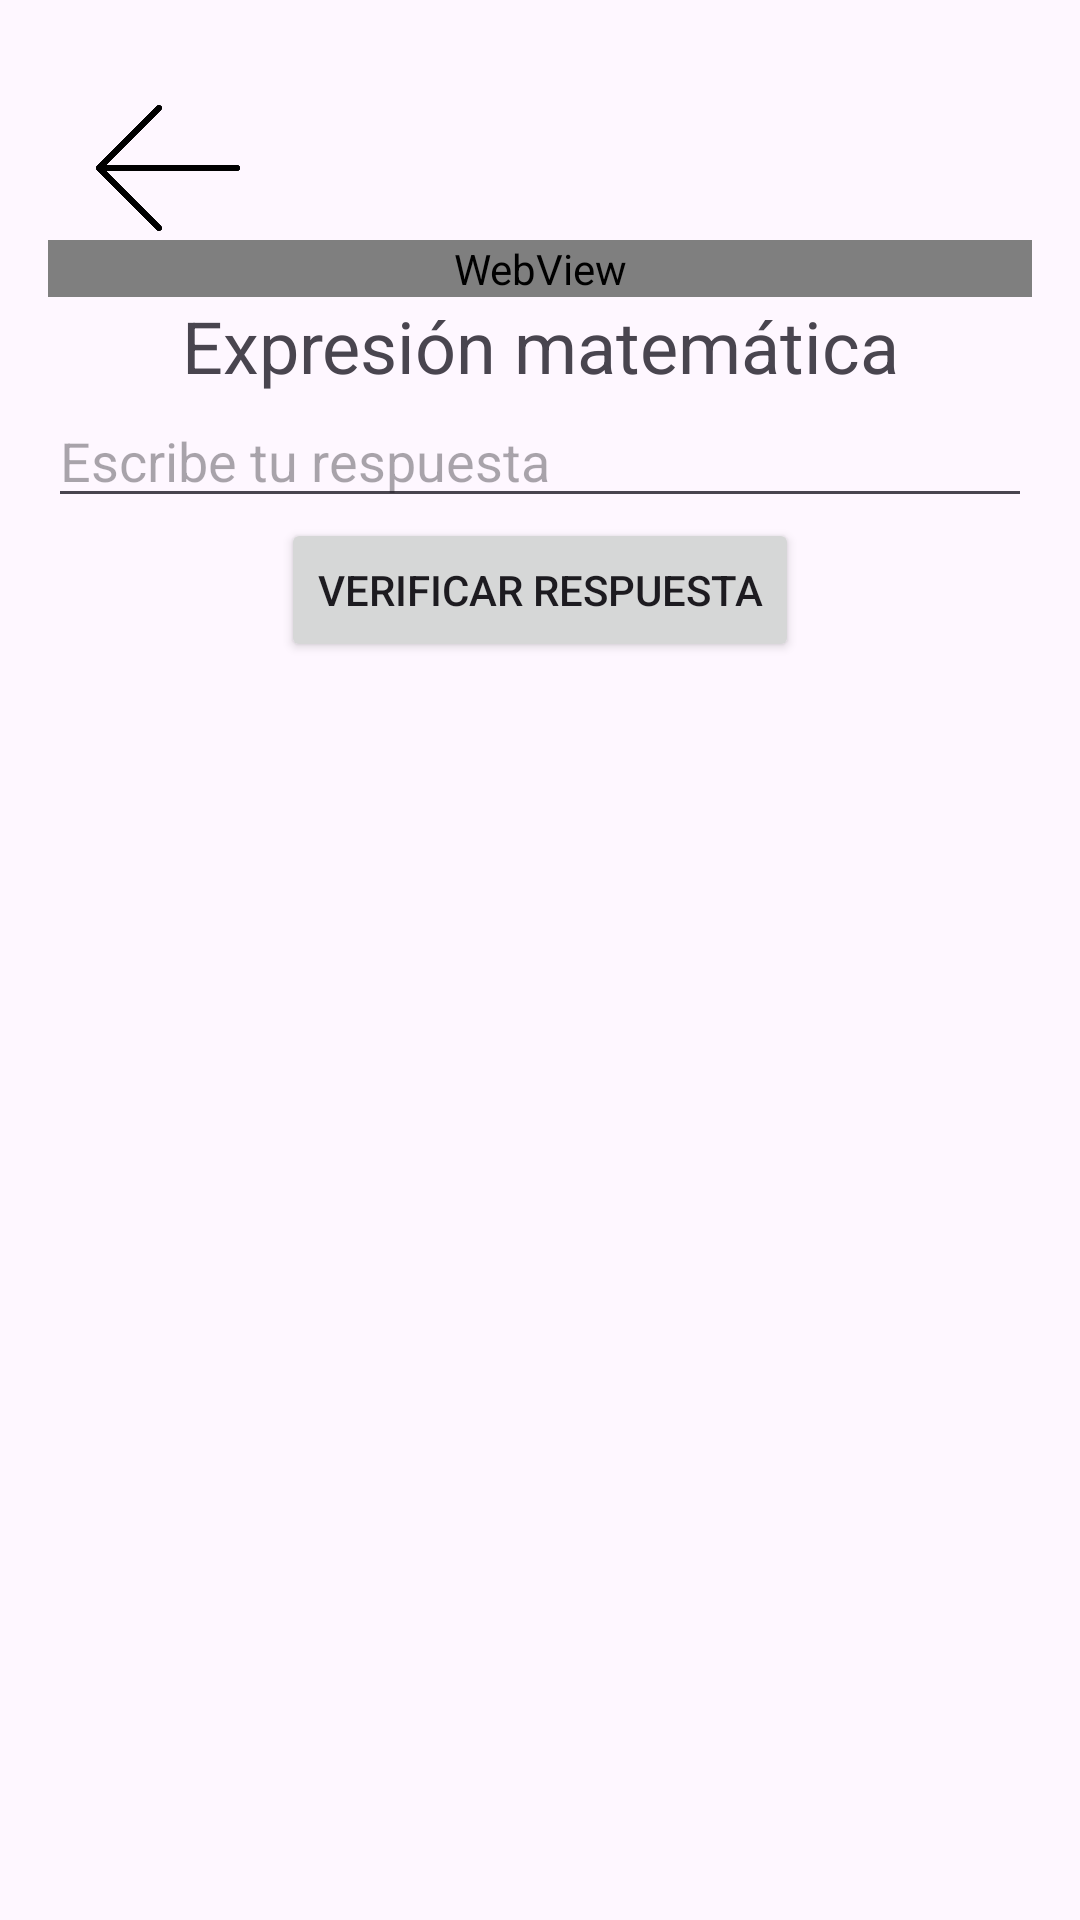

Named icons in this screenshot (1080x1920) and their centers, (x,y):
Botón de volver: (168,168)
